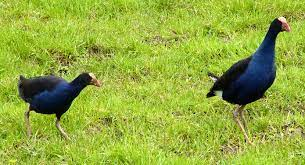Walking: (204, 5, 296, 153), (10, 48, 114, 153)
